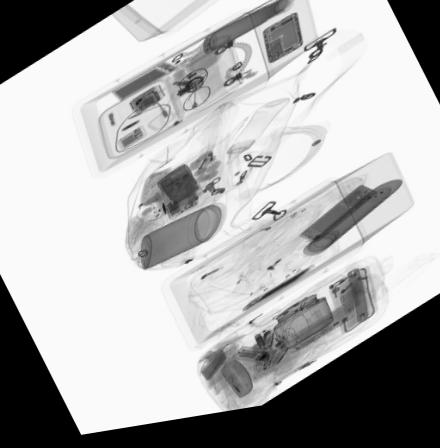Powerbank: (111, 65, 180, 106)
